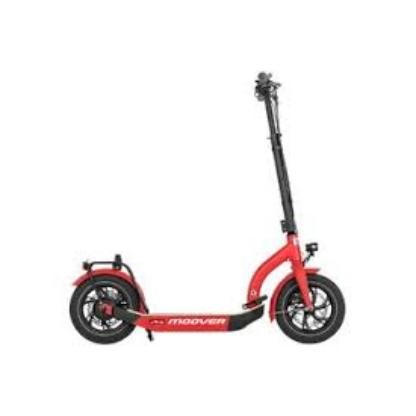bike: (68, 71, 346, 347), (69, 231, 346, 346)
